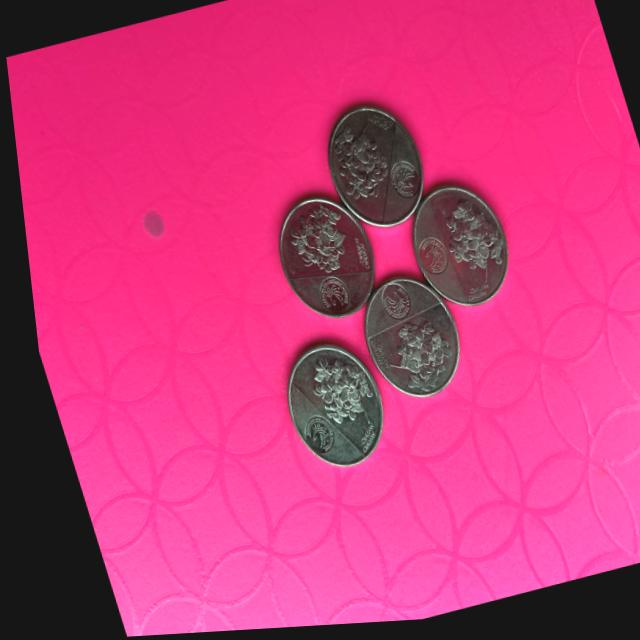1_New_Back: (285, 343, 376, 442), (423, 195, 508, 298), (316, 114, 395, 212), (363, 319, 448, 407), (269, 203, 358, 287)
